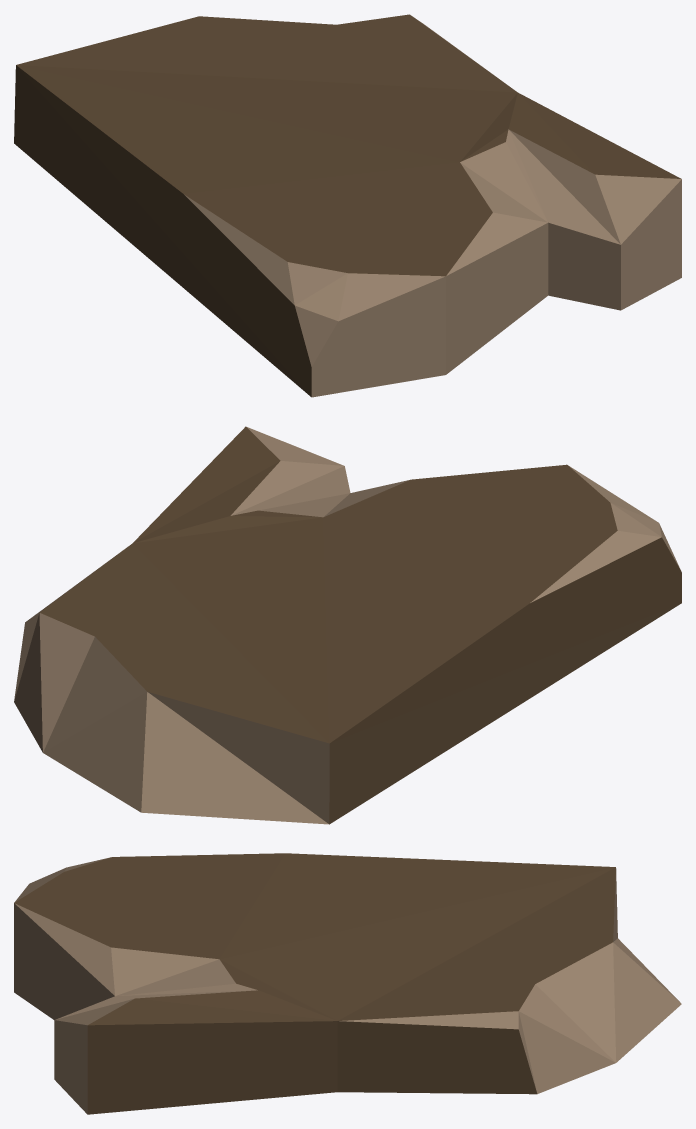
Rendered from Board_05.FBX.
The picture shows the model from 3 angles, top to bottom: view 1: azimuth 30°, elevation 25°; view 2: azimuth 150°, elevation 25°; view 3: azimuth 270°, elevation 25°; orthographic projection. The views are drawn at different scales.
Visible parts, largest first — view 1: Board_05; view 2: Board_05; view 3: Board_05.
Boxes of the visible parts, bbox=[...] form: Board_05: bbox=[14, 14, 681, 397]; Board_05: bbox=[14, 426, 681, 824]; Board_05: bbox=[14, 853, 681, 1114].
Size of the model in its own units: 0.8488 by 0.2 by 1.35.
